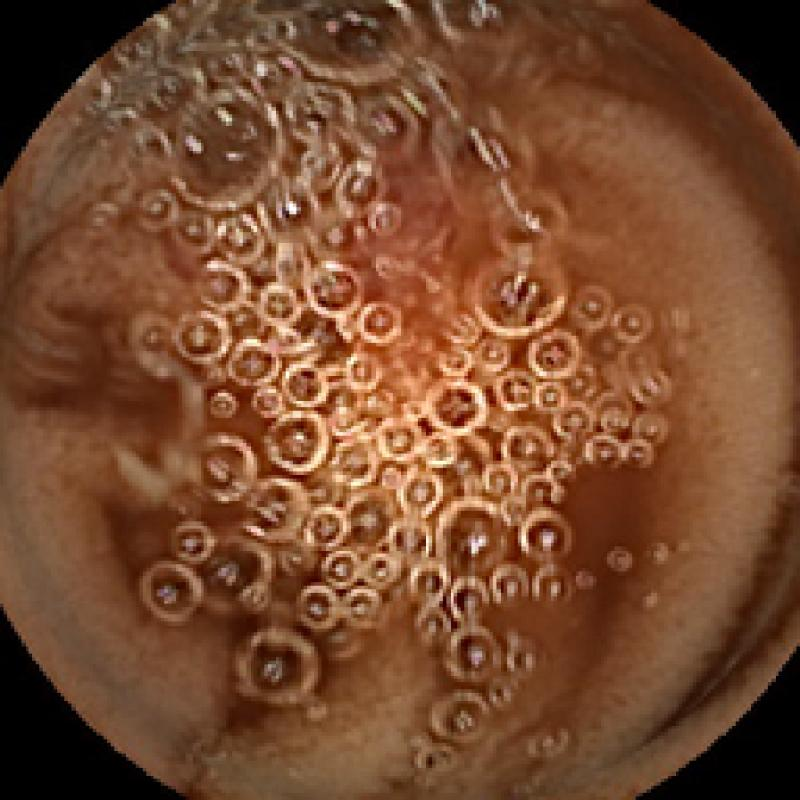bleeding: (307, 86, 468, 318)
